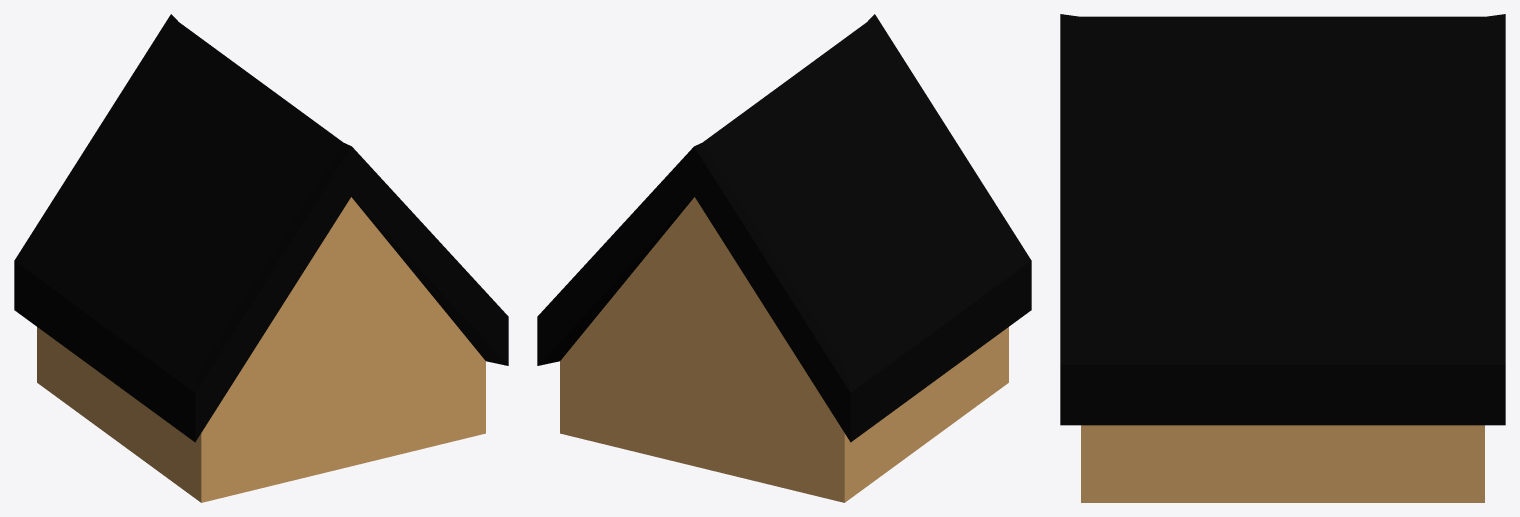
The model's file is Building Top2.fbx.
3 renders of one model, left to right at view 1: azimuth 30°, elevation 25°; view 2: azimuth 150°, elevation 25°; view 3: azimuth 270°, elevation 25°, orthographic. The views are drawn at different scales.
Visible parts, largest first — view 1: roof2.001; view 2: roof2.001; view 3: roof2.001.
Boxes of the visible parts, <box> form: roof2.001: <box>14,14,508,502</box>; roof2.001: <box>537,14,1031,502</box>; roof2.001: <box>1060,14,1505,502</box>.
Bounding box in the file's own units: 300 × 300 × 300.
